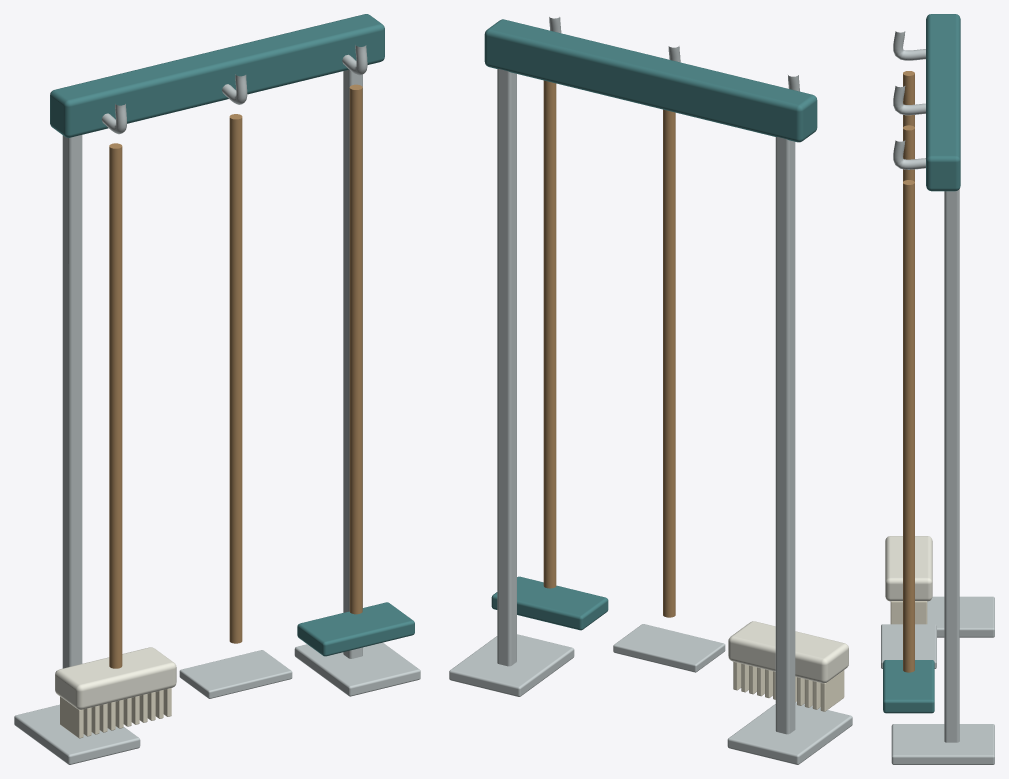
The model's file is mushroom-farm-and-grow-rooms-cleaning-tool-rack-bc689173__30847.glb.
3 renders of one model, left to right at view 1: azimuth 30°, elevation 25°; view 2: azimuth 150°, elevation 25°; view 3: azimuth 270°, elevation 25°, orthographic. The views are drawn at different scales.
Parts seen in each view (by area): view 1: cleaning-tool-rack; view 2: cleaning-tool-rack; view 3: cleaning-tool-rack.
Part boxes in pixels (x1=…): cleaning-tool-rack: x1=14, y1=14, x2=420, y2=764; cleaning-tool-rack: x1=449, y1=17, x2=852, y2=764; cleaning-tool-rack: x1=881, y1=14, x2=994, y2=764.
Size of the model in its own units: 0.8801 by 1.54 by 0.2649.
